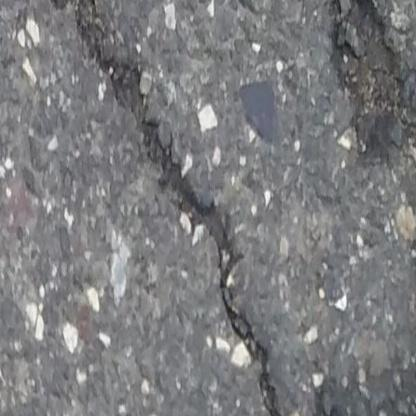Cracks: (45, 0, 360, 416), (328, 0, 416, 416)
